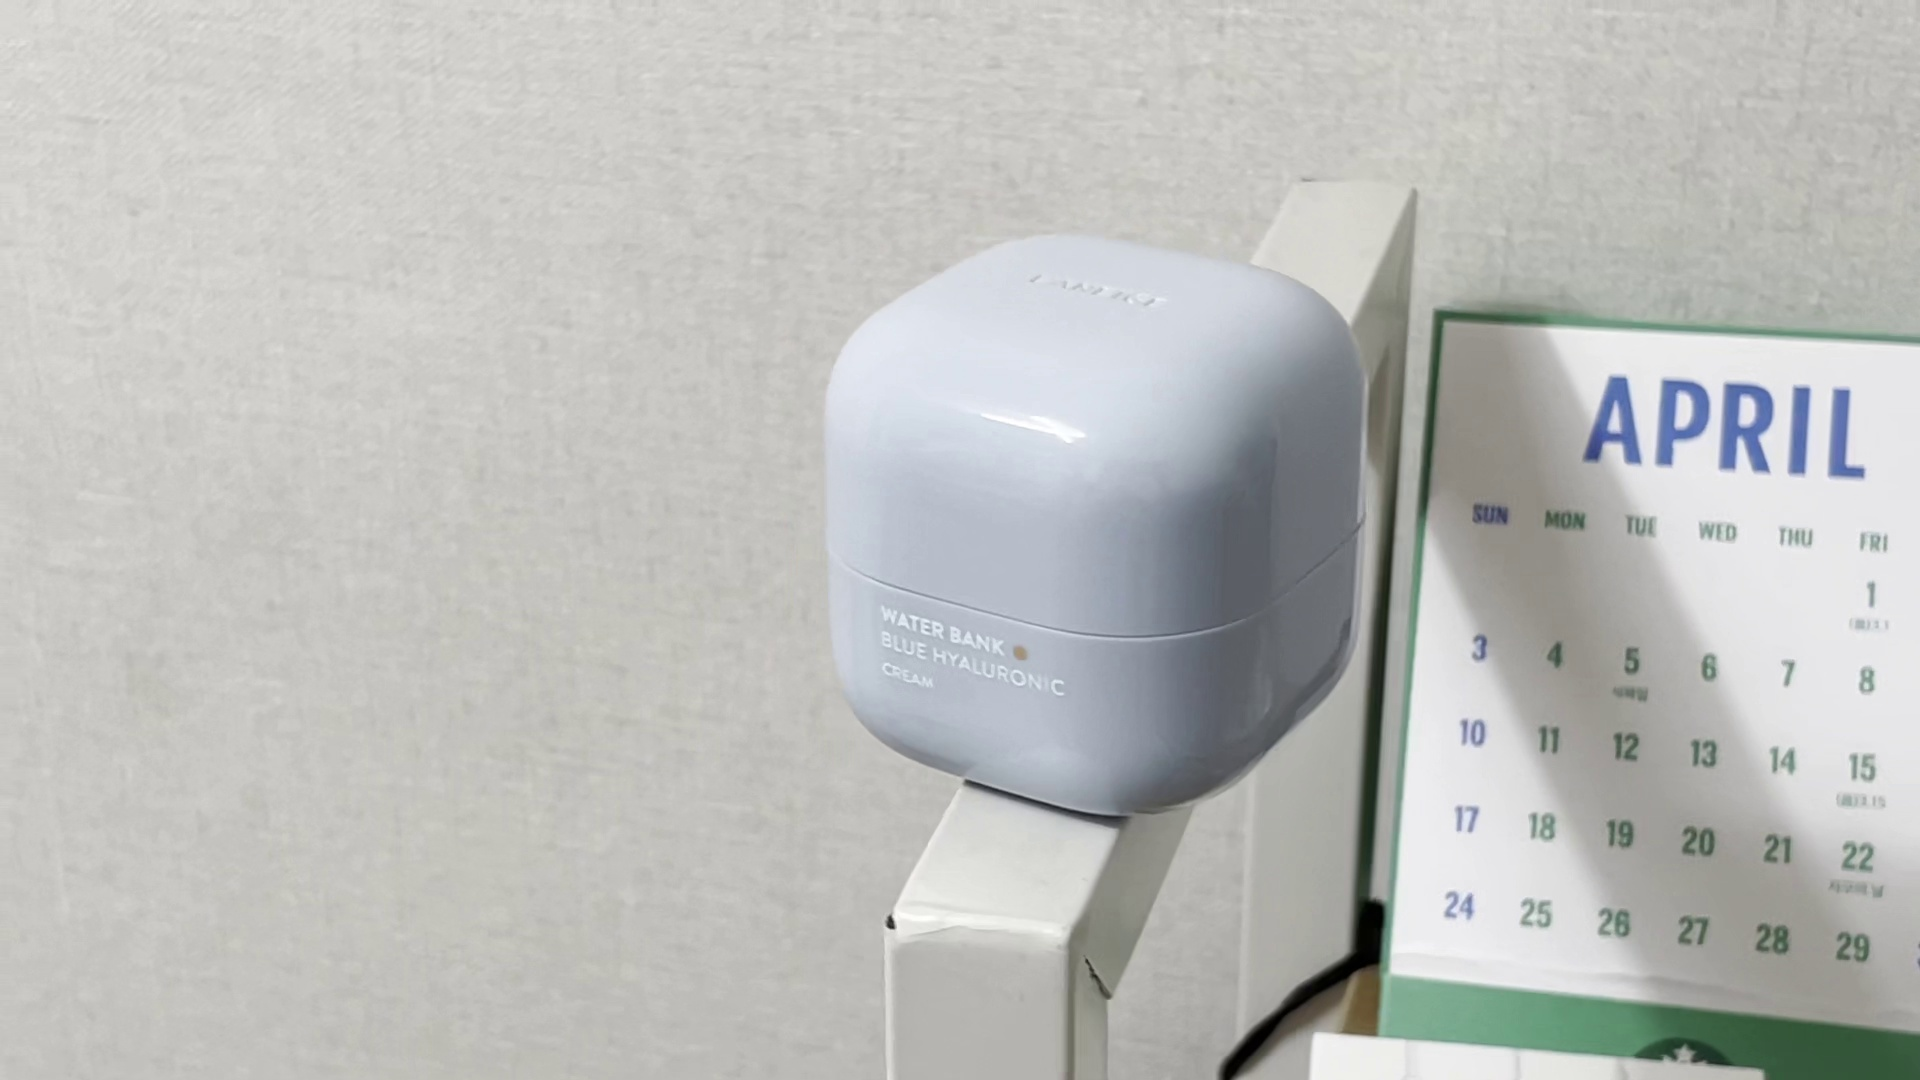cream: (812, 225, 1365, 822)
